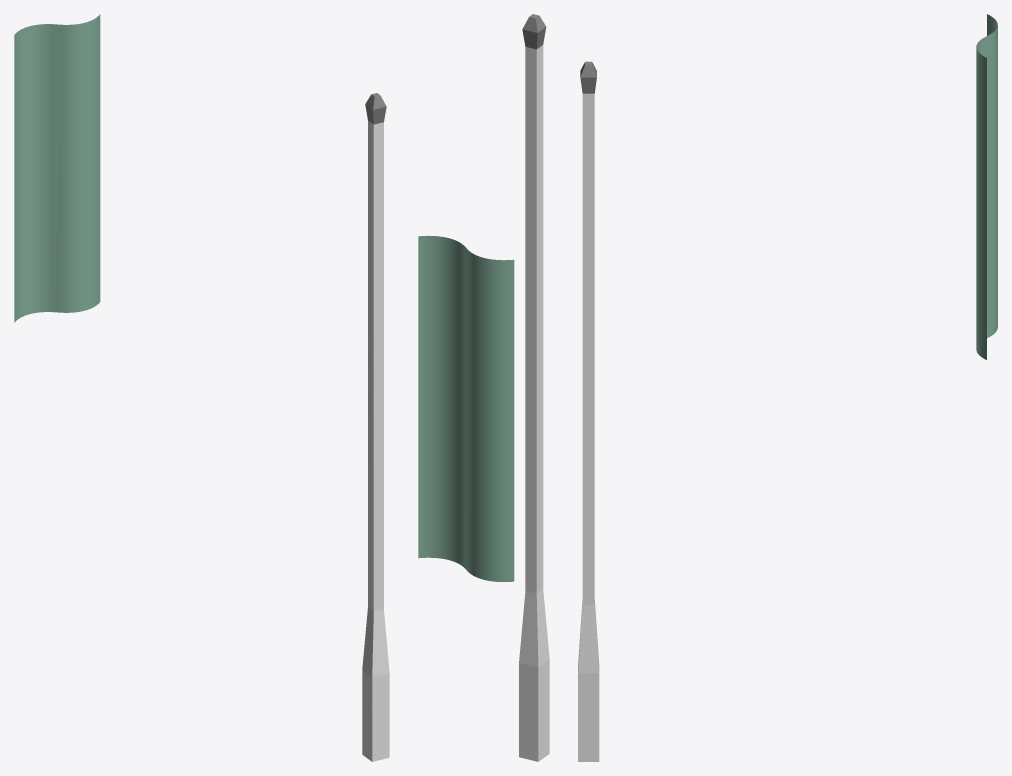
Rendered from flagGreen.glb.
The picture shows the model from 3 angles, left to right: view 1: azimuth 30°, elevation 25°; view 2: azimuth 150°, elevation 25°; view 3: azimuth 270°, elevation 25°; orthographic projection. The views are drawn at different scales.
Visible parts, largest first — view 1: flagGreen(Clone), Group; view 2: flagGreen(Clone), Group; view 3: Group, flagGreen(Clone).
Boxes of the visible parts, x1=… form: flagGreen(Clone): x1=14, y1=14, x2=100, y2=322; Group: x1=362, y1=93, x2=389, y2=761; flagGreen(Clone): x1=418, y1=235, x2=514, y2=581; Group: x1=519, y1=14, x2=549, y2=761; Group: x1=578, y1=61, x2=599, y2=761; flagGreen(Clone): x1=976, y1=14, x2=997, y2=359.
Size of the model in its own units: 0.3572 by 1.25 by 0.6848.
